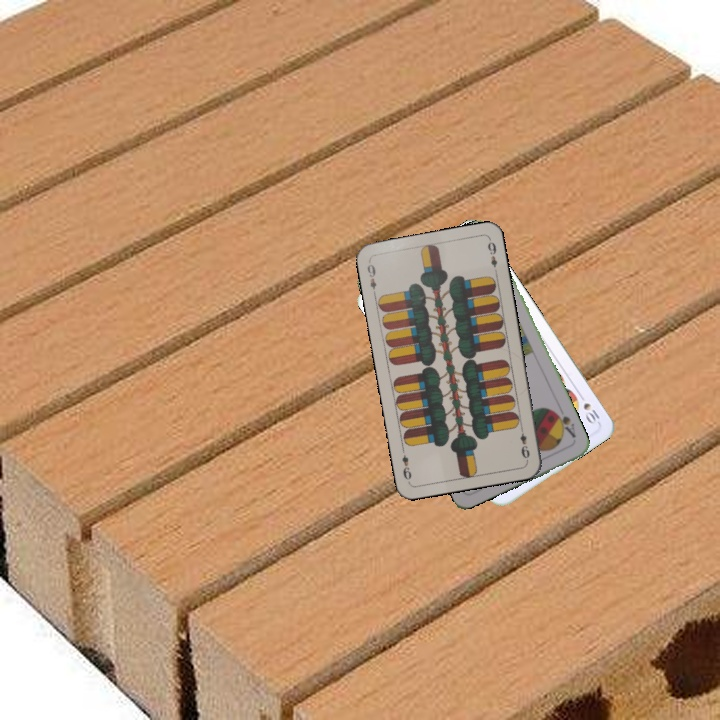E9: (516, 422, 532, 463), (363, 258, 379, 298)
S10: (575, 389, 603, 427)
SA: (550, 408, 578, 441)
